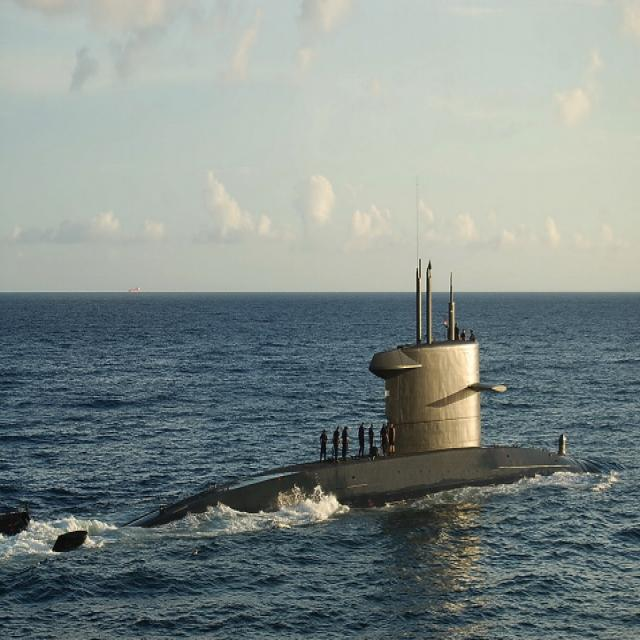submarine: (52, 260, 604, 557)
